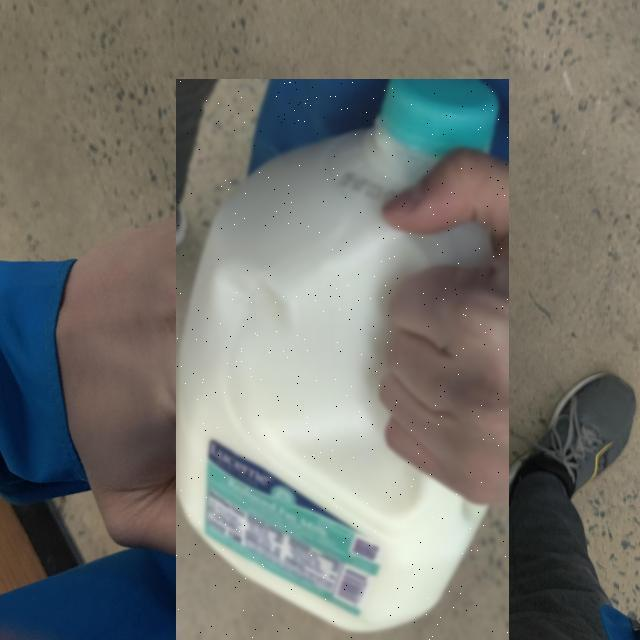Milk: (176, 79, 509, 640)
